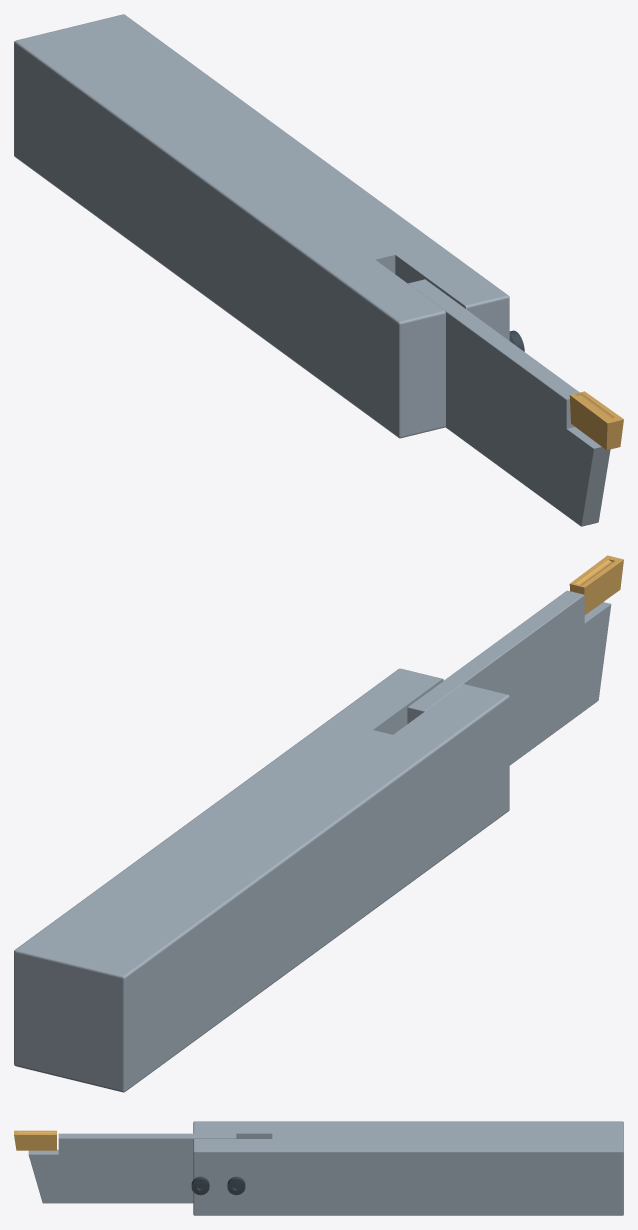
Rendered from parting-off.glb.
The picture shows the model from 3 angles, top to bottom: view 1: azimuth 30°, elevation 25°; view 2: azimuth 150°, elevation 25°; view 3: azimuth 270°, elevation 25°; orthographic projection. The views are drawn at different scales.
Visible parts, largest first — view 1: Parting_Holder, Parting_Blade, Parting_Carbide_Insert; view 2: Parting_Holder, Parting_Blade, Parting_Carbide_Insert; view 3: Parting_Holder, Parting_Blade, Parting_Carbide_Insert, Parting_Side_54_Head, Parting_Side_59_Head.
Part boxes in pixels (bbox=[...]): Parting_Holder: bbox=[14, 14, 509, 438]; Parting_Blade: bbox=[408, 279, 610, 526]; Parting_Carbide_Insert: bbox=[569, 391, 623, 450]; Parting_Holder: bbox=[14, 668, 509, 1092]; Parting_Blade: bbox=[407, 590, 611, 765]; Parting_Carbide_Insert: bbox=[569, 555, 623, 614]; Parting_Holder: bbox=[193, 1121, 623, 1215]; Parting_Blade: bbox=[28, 1133, 236, 1203]; Parting_Carbide_Insert: bbox=[14, 1130, 56, 1150]; Parting_Side_54_Head: bbox=[227, 1176, 245, 1195]; Parting_Side_59_Head: bbox=[191, 1176, 209, 1195].
Size of the model in its own units: 0.0112 by 0.0105 by 0.085.
